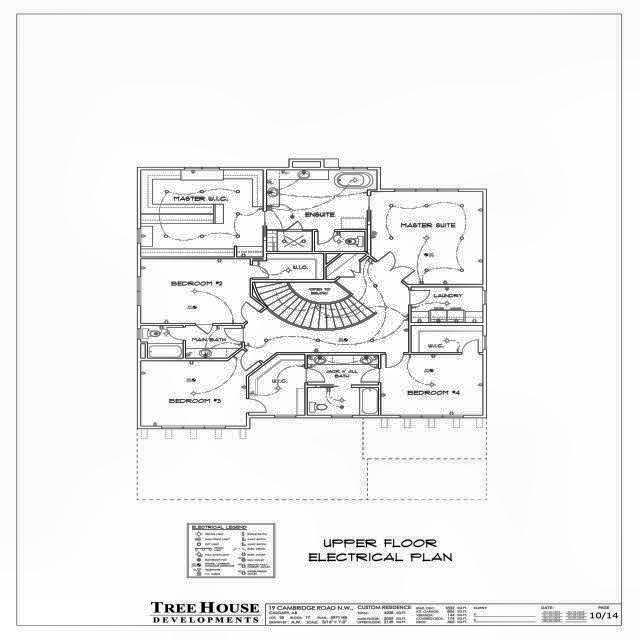room: (141, 170, 263, 257), (371, 192, 482, 284), (141, 350, 261, 426), (141, 259, 264, 324), (267, 170, 376, 230), (381, 355, 483, 415), (249, 354, 305, 415), (411, 287, 483, 322), (308, 355, 378, 385), (308, 388, 378, 415), (412, 326, 483, 352), (186, 326, 241, 358), (320, 244, 365, 283), (253, 254, 323, 279), (141, 326, 182, 358), (315, 232, 365, 251), (267, 231, 312, 251)
